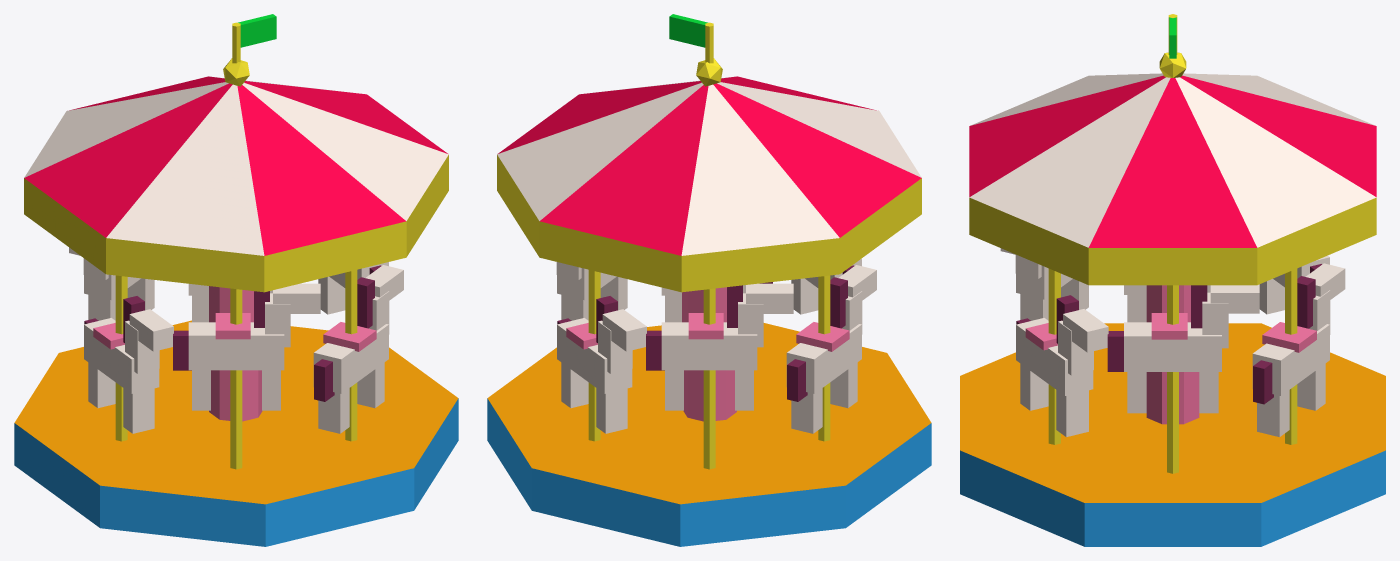
The model's file is carousel.glb.
3 views of the same model, side by side, from view 1: azimuth 30°, elevation 25°; view 2: azimuth 150°, elevation 25°; view 3: azimuth 270°, elevation 25° (orthographic). The views are drawn at different scales.
Visible parts, largest first — view 1: Rotor, Horse0.004, Horse0.005, Horse0.003, Horse0.002, Horse0, Horse0.001; view 2: Rotor, Horse0.002, Horse0.003, Horse0.001, Horse0, Horse0.004, Horse0.005; view 3: Rotor, Horse0, Horse0.001, Horse0.005, Horse0.004, Horse0.002, Horse0.003.
Part boxes in pixels (bbox=[...]): Rotor: bbox=[14, 14, 458, 546]; Horse0.004: bbox=[173, 283, 320, 410]; Horse0.005: bbox=[313, 265, 403, 433]; Horse0.003: bbox=[84, 296, 173, 433]; Horse0.002: bbox=[69, 247, 154, 320]; Horse0: bbox=[318, 262, 388, 314]; Horse0.001: bbox=[188, 284, 272, 322]; Rotor: bbox=[487, 14, 931, 546]; Horse0.002: bbox=[646, 283, 793, 410]; Horse0.003: bbox=[786, 265, 876, 433]; Horse0.001: bbox=[557, 296, 646, 433]; Horse0: bbox=[556, 262, 627, 320]; Horse0.004: bbox=[791, 259, 861, 314]; Horse0.005: bbox=[661, 282, 772, 322]; Rotor: bbox=[960, 14, 1385, 546]; Horse0: bbox=[1107, 284, 1259, 413]; Horse0.001: bbox=[1252, 263, 1345, 437]; Horse0.005: bbox=[1016, 295, 1108, 437]; Horse0.004: bbox=[1000, 248, 1088, 320]; Horse0.002: bbox=[1259, 255, 1329, 314]; Horse0.003: bbox=[1124, 285, 1210, 322].
Bounding box in the file's own units: 2.99 × 3.42 × 2.99.
